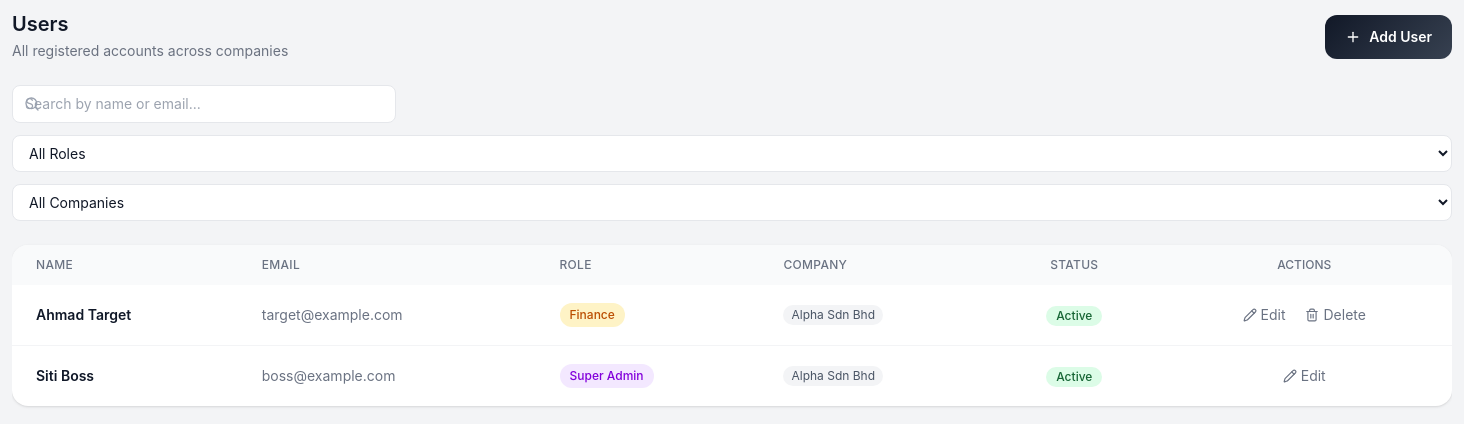
Test: UserManagement — listing › narrows the visible rows with the role filter
Select "Finance" in the dropdown named "filter by role": (732, 154) [12,135,1452,172]
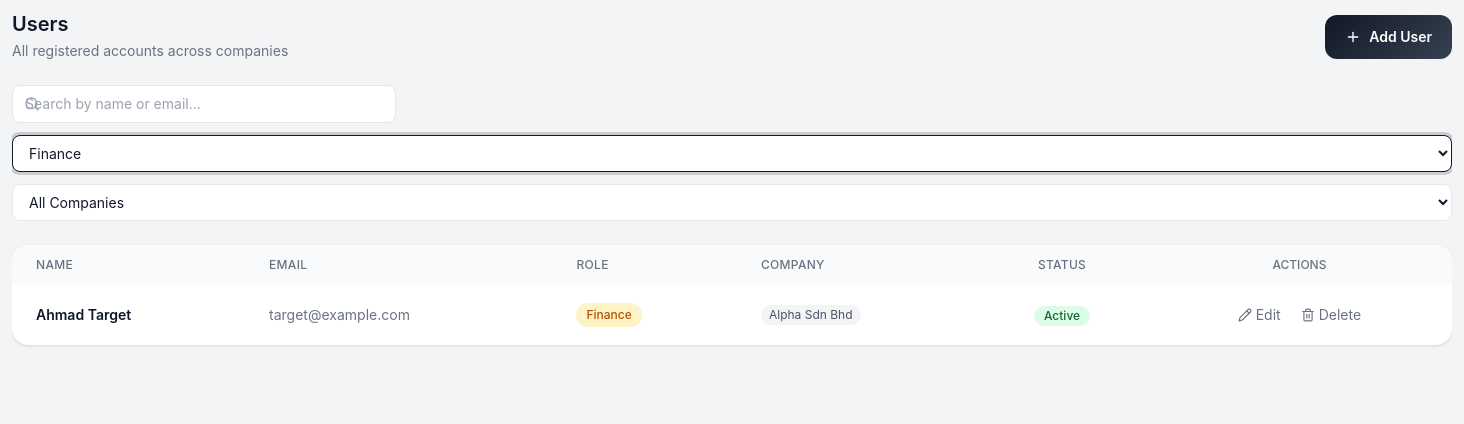
Expected: the text "Ahmad Target" is shown, [36,306,131,323]
Expected: the text "Siti Boss" is gone
